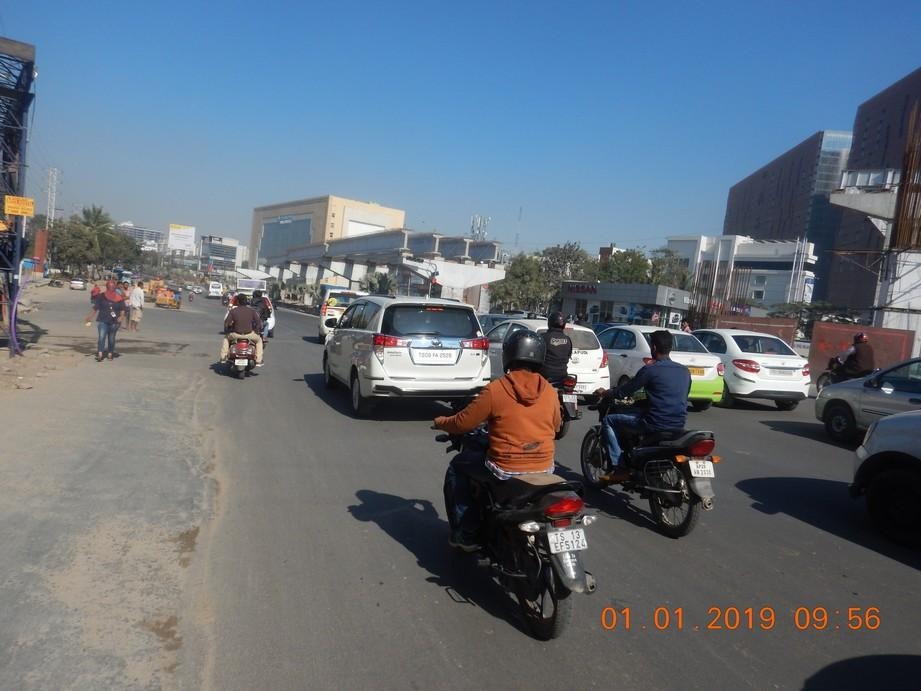plate: (547, 530, 591, 554), (689, 457, 718, 480)
